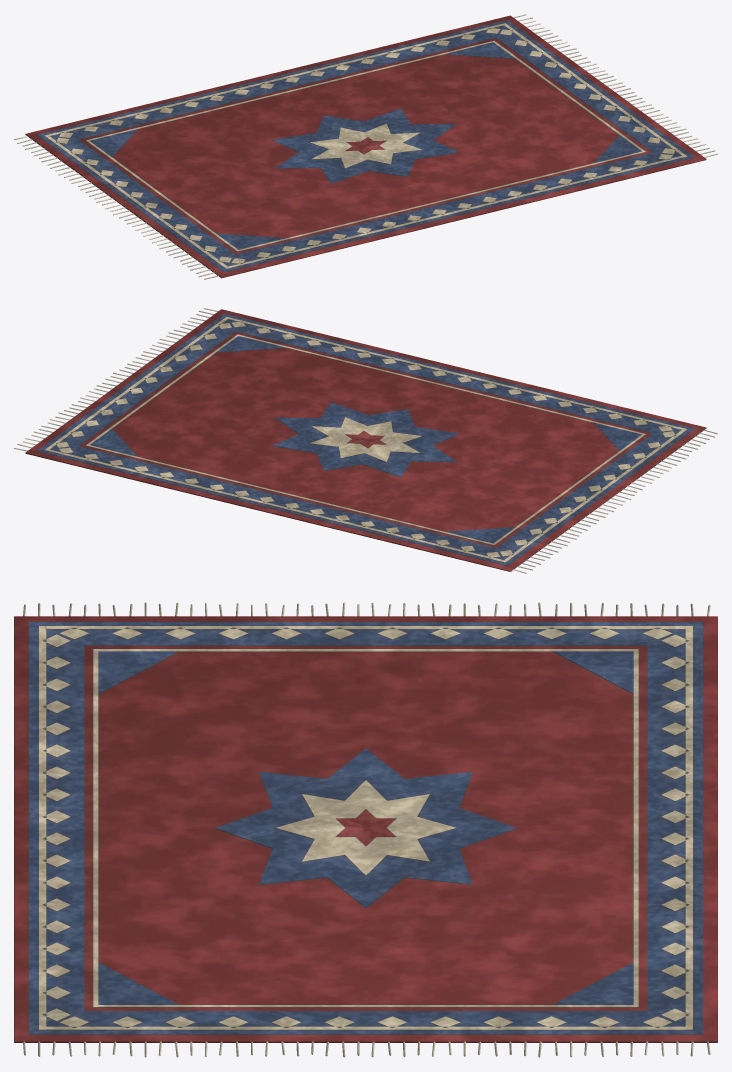
File: tapete_sala.glb
3 renders of one model, top to bottom at view 1: azimuth 30°, elevation 25°; view 2: azimuth 150°, elevation 25°; view 3: azimuth 270°, elevation 25°, orthographic. The views are drawn at different scales.
Visible parts, largest first — view 1: tapete; view 2: tapete; view 3: tapete.
Boxes of the visible parts, box(x1,y1,x2,y2) form: tapete: box(14, 14, 717, 279); tapete: box(14, 308, 717, 573); tapete: box(14, 602, 717, 1057).
Bounding box in the file's own units: 2.13 × 0.0076 × 1.4.
1 material, 1 textured.
